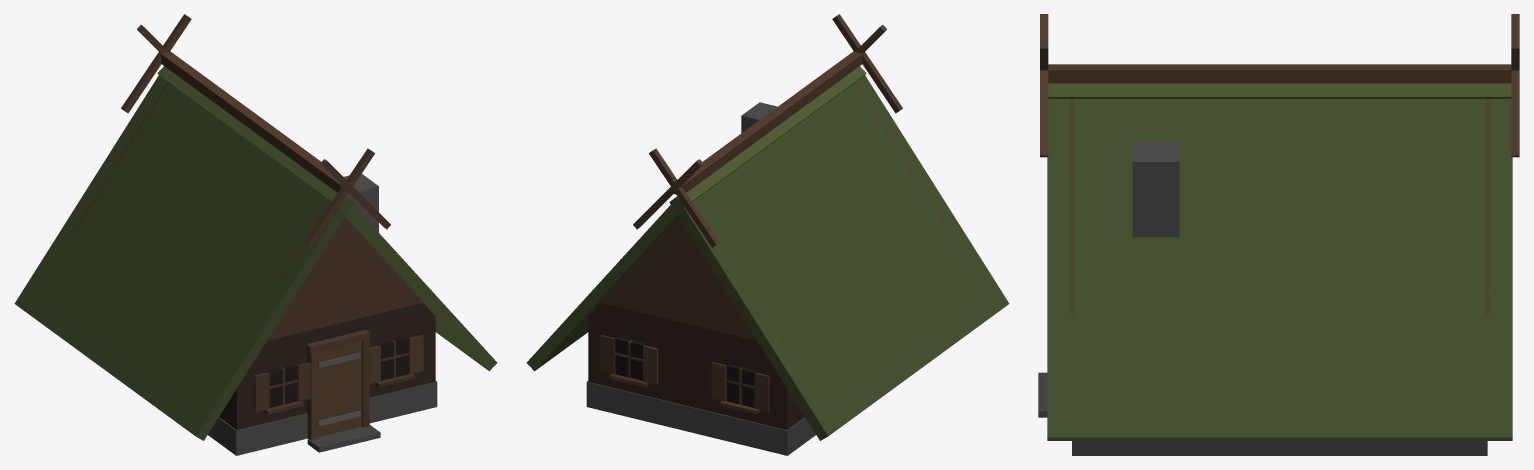
Rendered from walk_rime_row.glb.
The picture shows the model from 3 angles, left to right: view 1: azimuth 30°, elevation 25°; view 2: azimuth 150°, elevation 25°; view 3: azimuth 270°, elevation 25°; orthographic projection. The views are drawn at different scales.
Parts seen in each view (by area): view 1: walk_rime_row_roof, walk_rime_row; view 2: walk_rime_row_roof, walk_rime_row; view 3: walk_rime_row_roof, walk_rime_row.
Boxes of the visible parts, x1=… form: walk_rime_row_roof: x1=14, y1=14, x2=497, y2=440; walk_rime_row: x1=208, y1=303, x2=437, y2=455; walk_rime_row_roof: x1=526, y1=14, x2=1009, y2=440; walk_rime_row: x1=586, y1=303, x2=815, y2=455; walk_rime_row_roof: x1=1040, y1=14, x2=1519, y2=440; walk_rime_row: x1=1038, y1=372, x2=1487, y2=455.
Size of what is drawn, in the model's own units: 7.6 by 6.95 by 8.17.
Materials: 2 (2 with a texture image).
